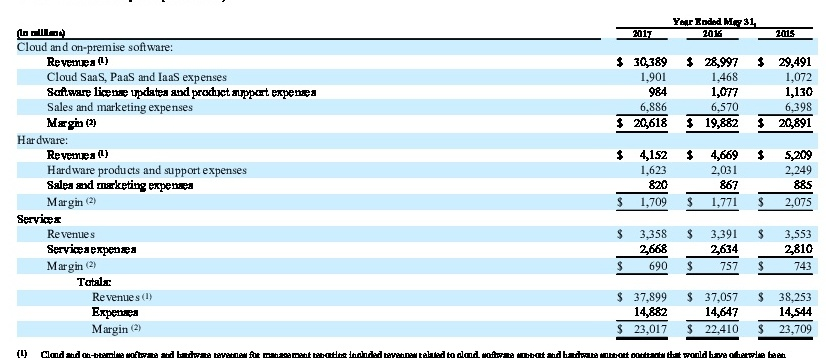table: (0, 0, 826, 358)
